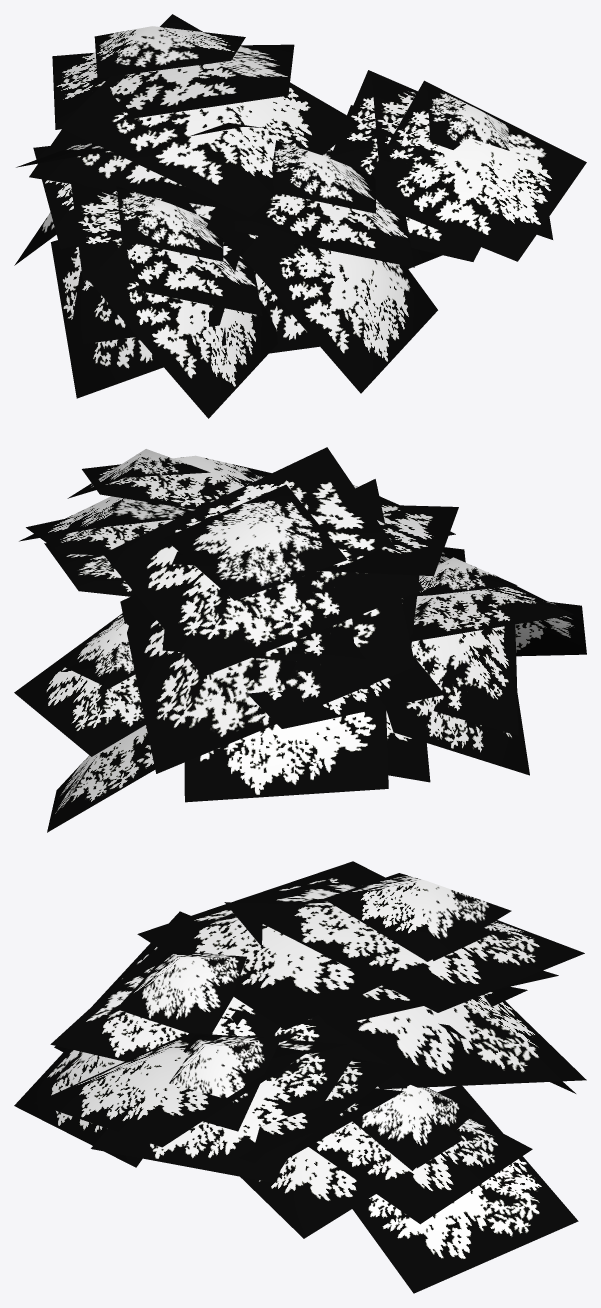
Rendered from nder56.obj.
3 renders of one model, top to bottom at view 1: azimuth 30°, elevation 25°; view 2: azimuth 150°, elevation 25°; view 3: azimuth 270°, elevation 25°, orthographic. The views are drawn at different scales.
Parts seen in each view (by area): view 1: nder56; view 2: nder56; view 3: nder56.
Boxes of the visible parts, bbox=[...] form: nder56: bbox=[14, 14, 586, 418]; nder56: bbox=[14, 447, 586, 832]; nder56: bbox=[14, 861, 586, 1293].
Bounding box in the file's own units: 206 × 122 × 203.
